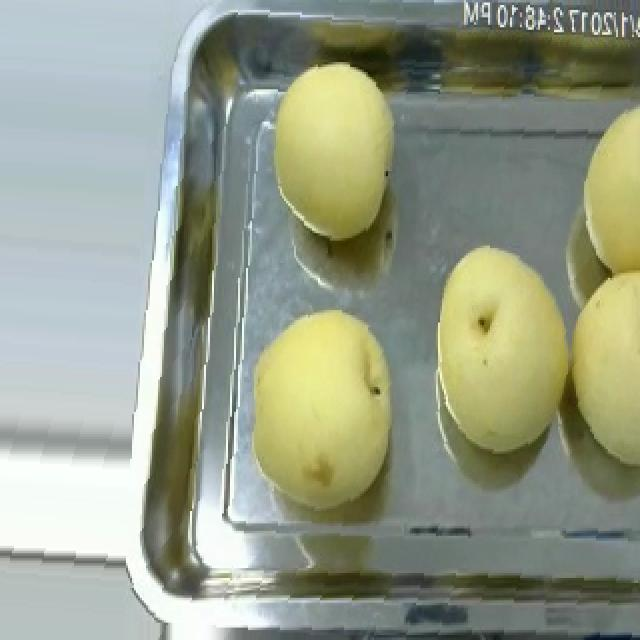Fruit: (240, 298, 408, 521), (426, 238, 582, 464), (258, 52, 408, 248), (560, 260, 640, 479), (568, 84, 640, 286)
